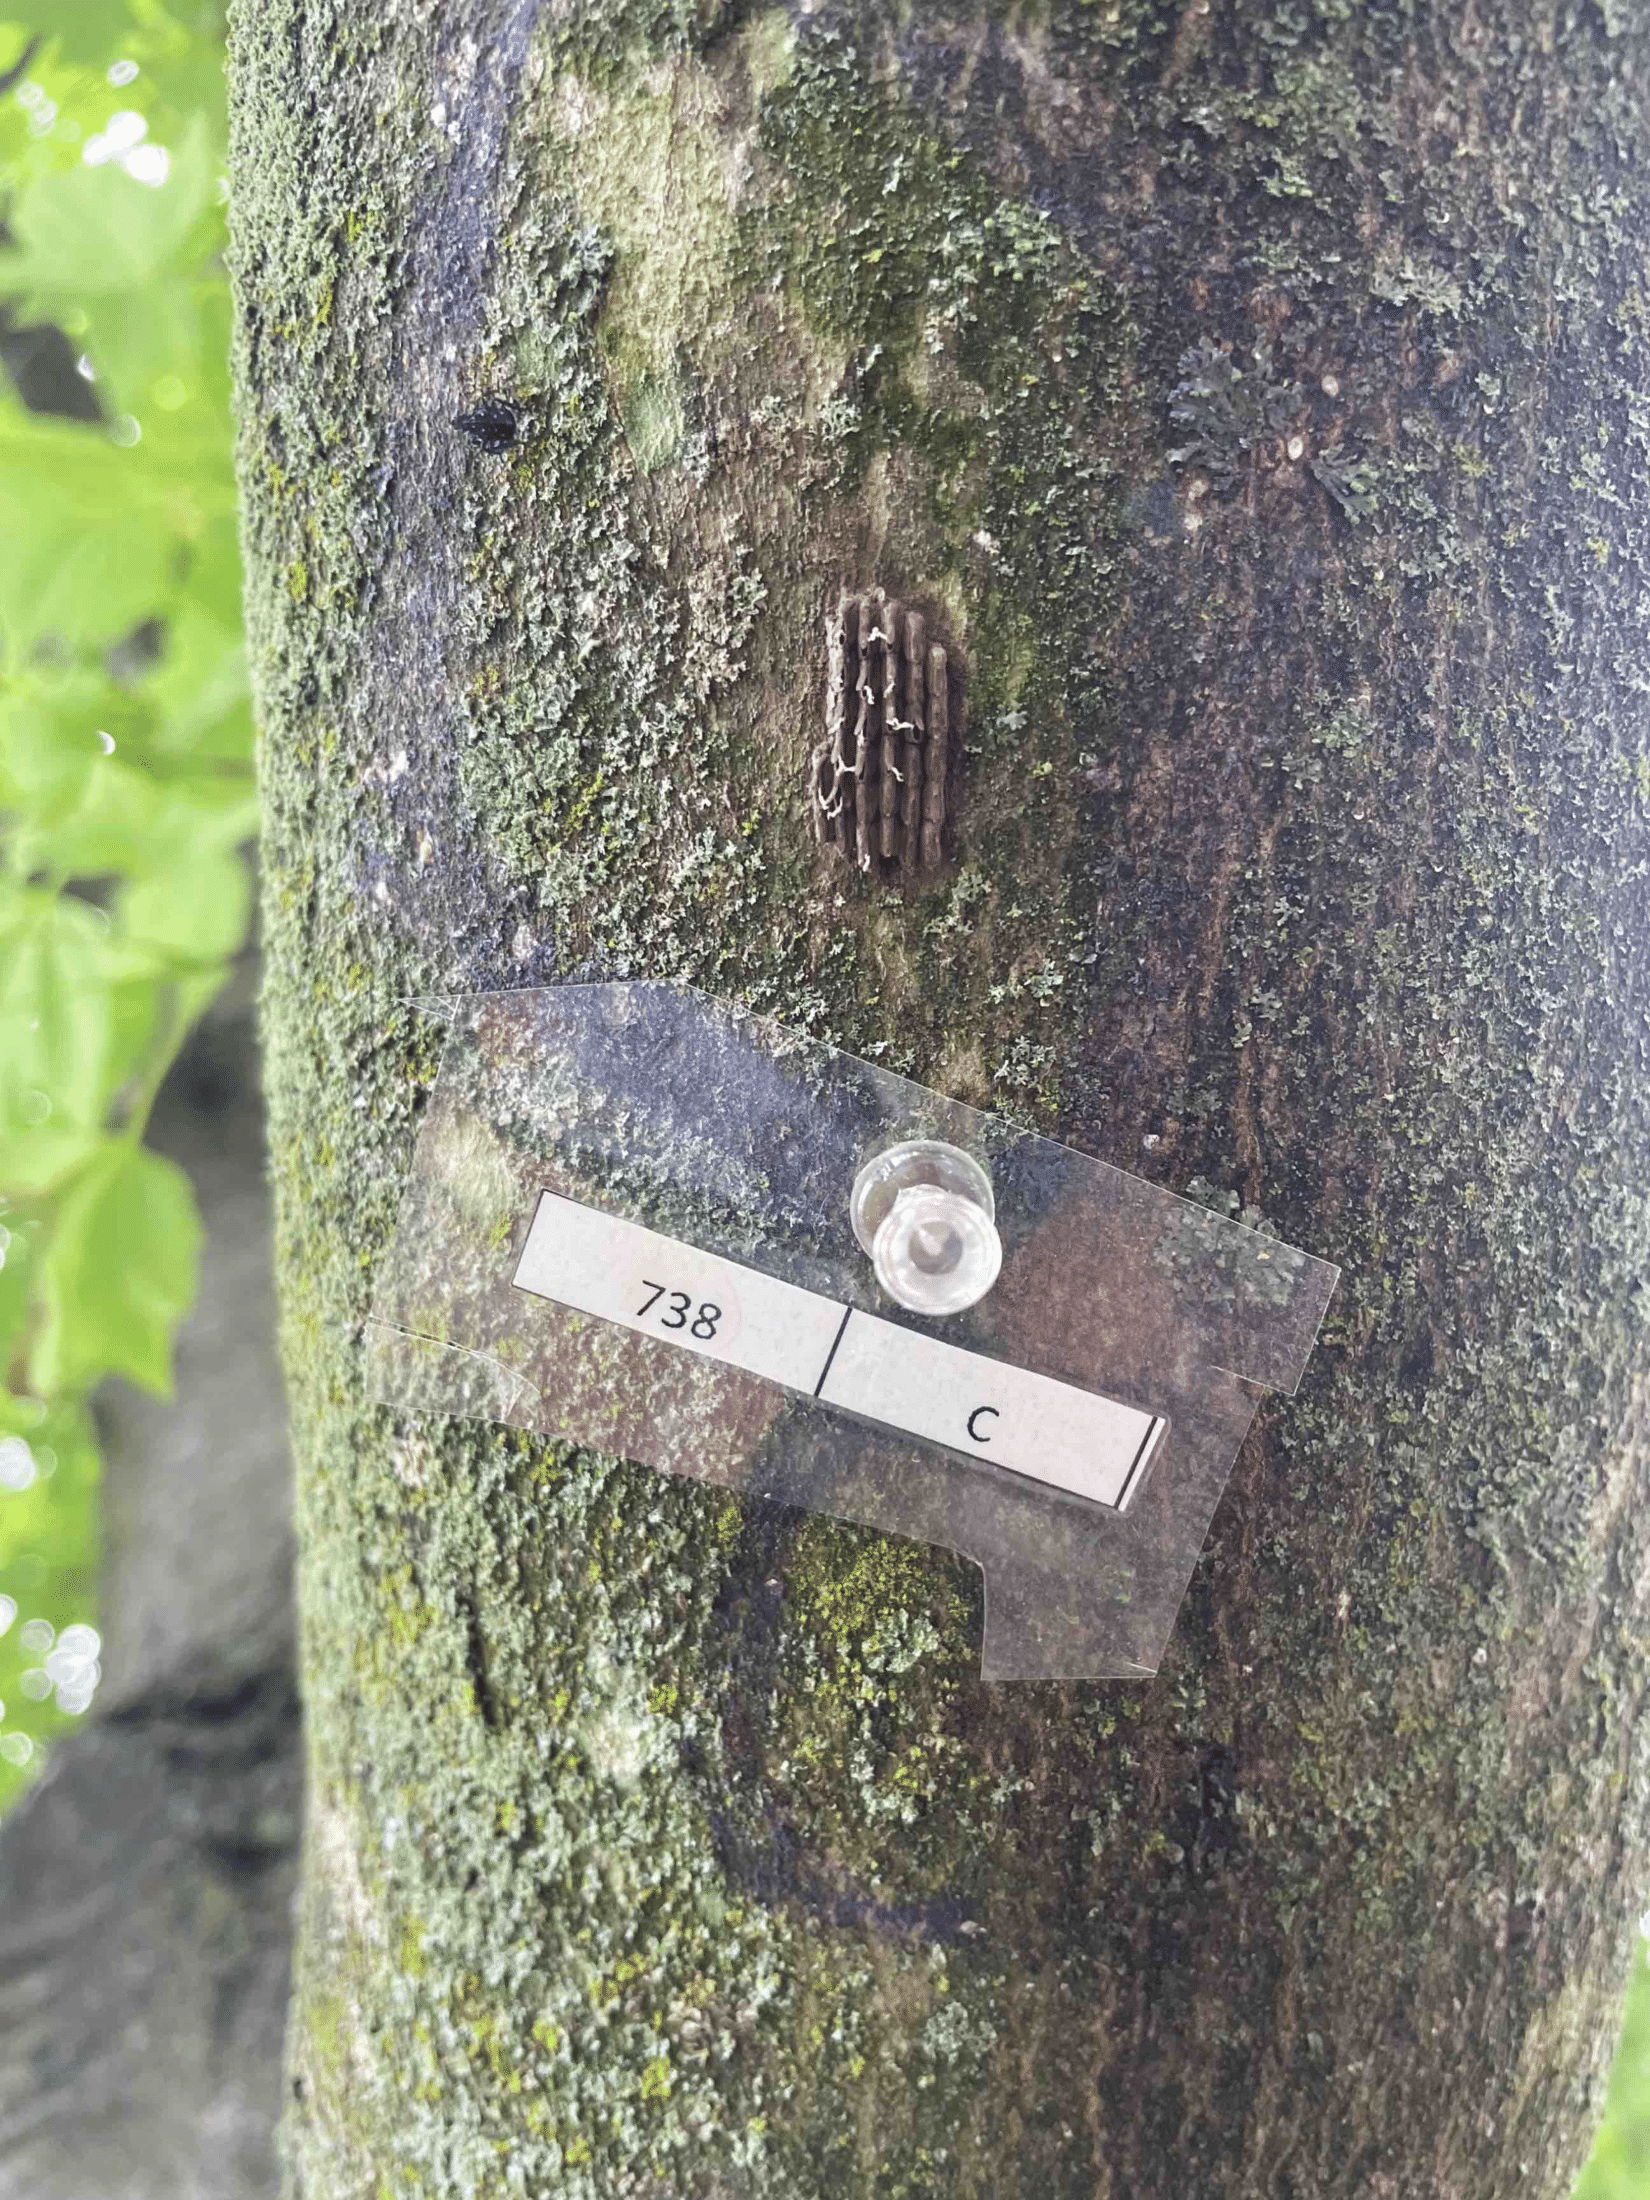egg masses: (787, 586, 984, 878)
